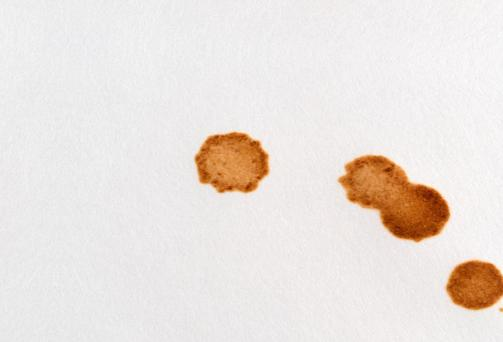stain: (330, 150, 455, 248), (189, 128, 276, 200), (443, 258, 503, 317)
